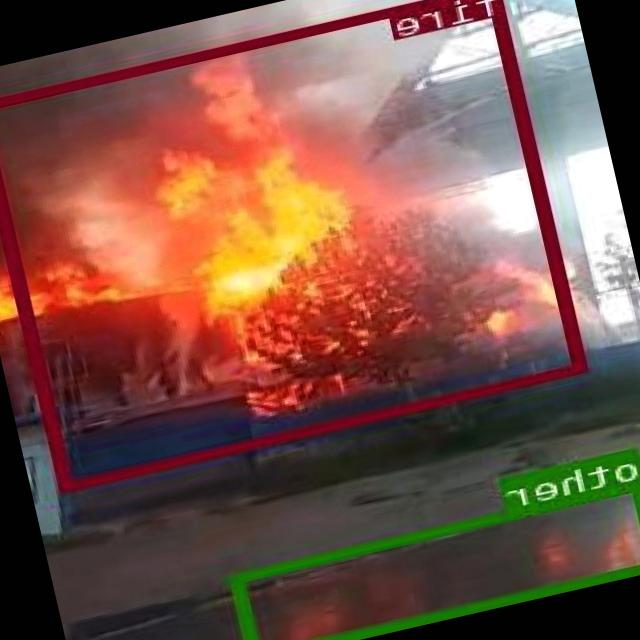fire: (0, 0, 589, 489)
